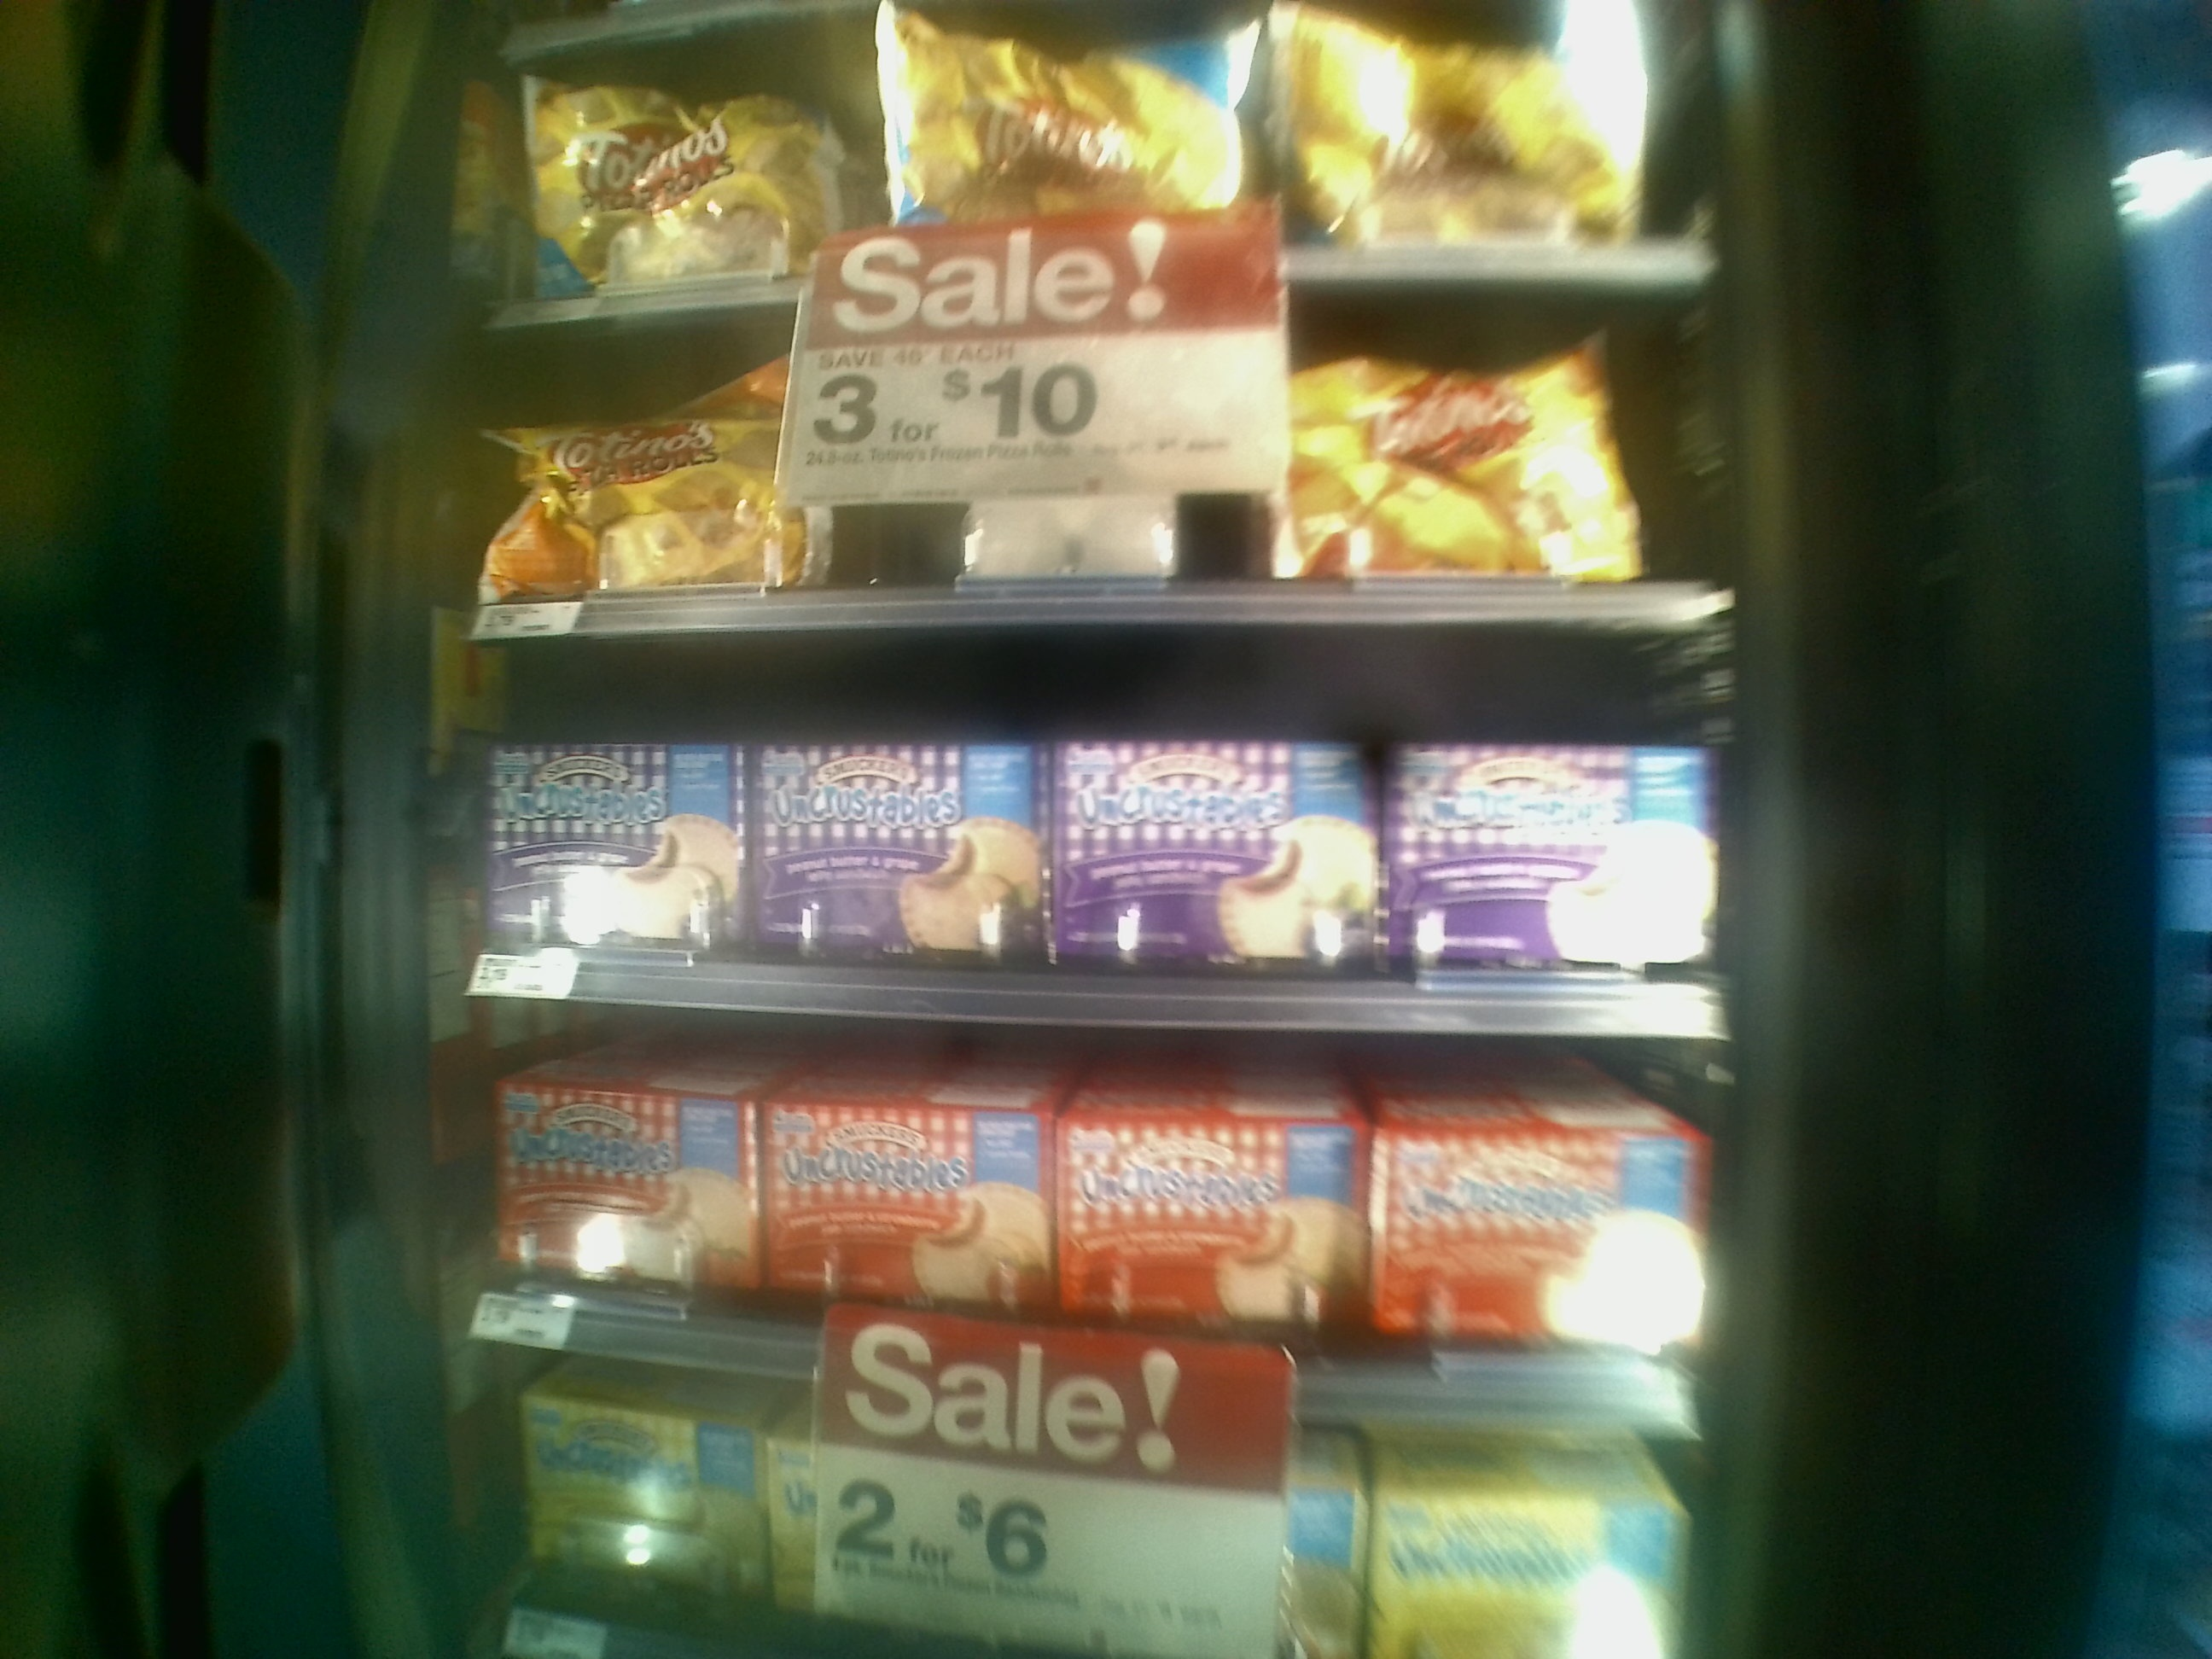shelf: (435, 634, 1740, 1049), (435, 1002, 1710, 1415), (418, 317, 1724, 617)
